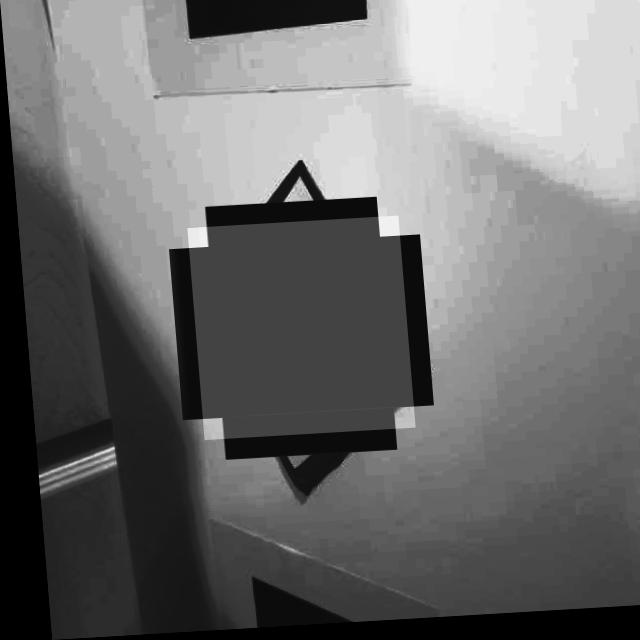qr_code: (183, 220, 408, 442)
